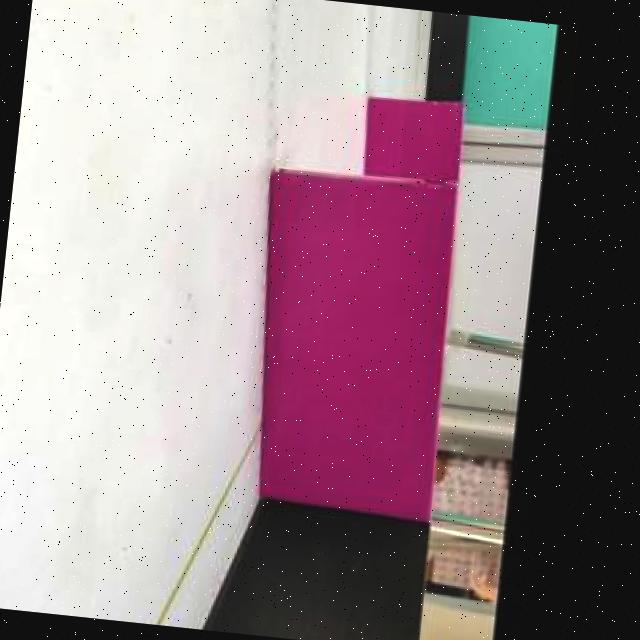xparking: (245, 170, 460, 515), (362, 94, 463, 180)
